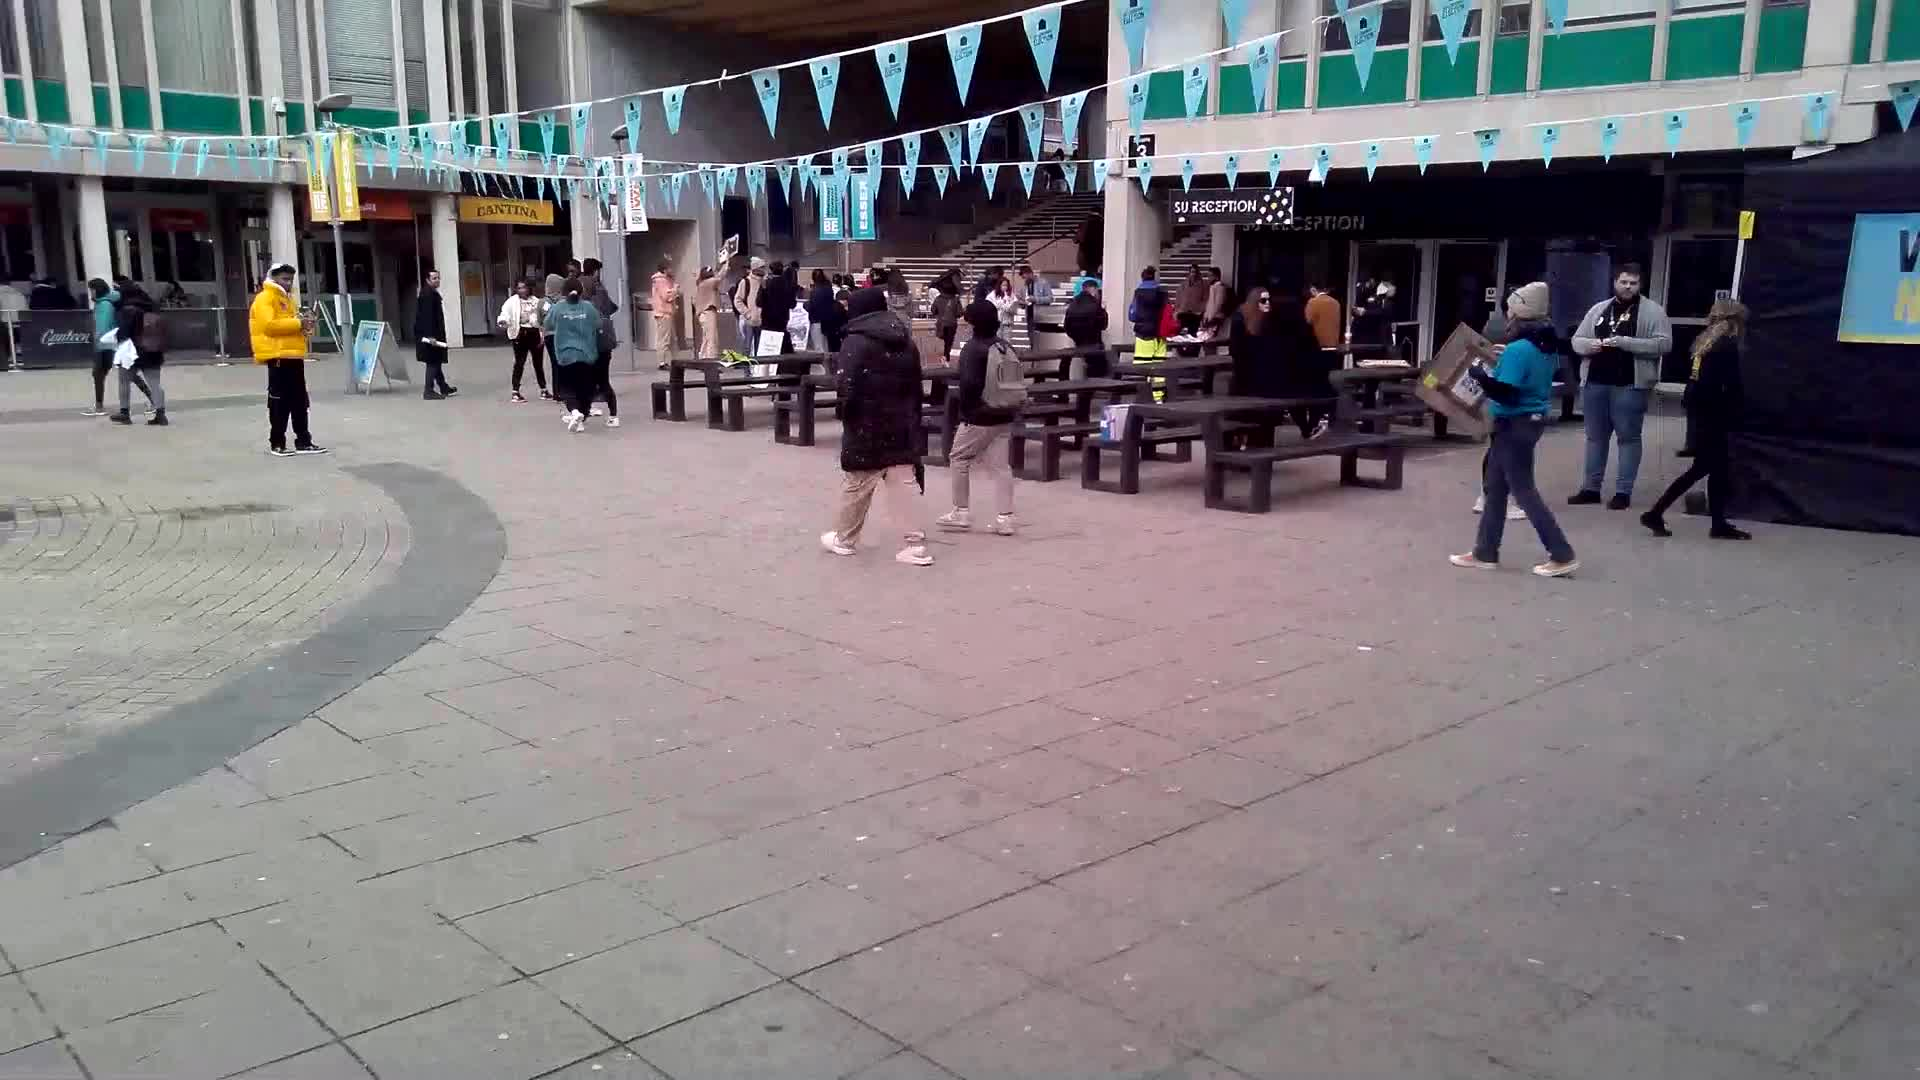Backpack: (846, 331, 926, 418), (984, 331, 1029, 411), (137, 302, 172, 361)
Bench: (1089, 391, 1412, 509), (649, 358, 784, 426)
Person: (833, 287, 932, 571), (1484, 275, 1573, 586), (246, 259, 332, 465), (1696, 298, 1749, 550), (1594, 265, 1642, 517), (108, 271, 172, 429), (558, 283, 605, 431), (1232, 283, 1280, 413), (500, 277, 546, 399), (417, 267, 456, 399), (1069, 275, 1116, 383), (84, 273, 117, 406), (649, 259, 685, 370)
